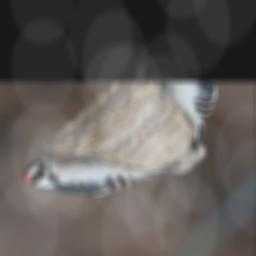Woodpecker: (13, 111, 186, 231)
